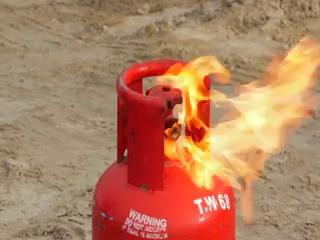Fire: (136, 36, 291, 182)
